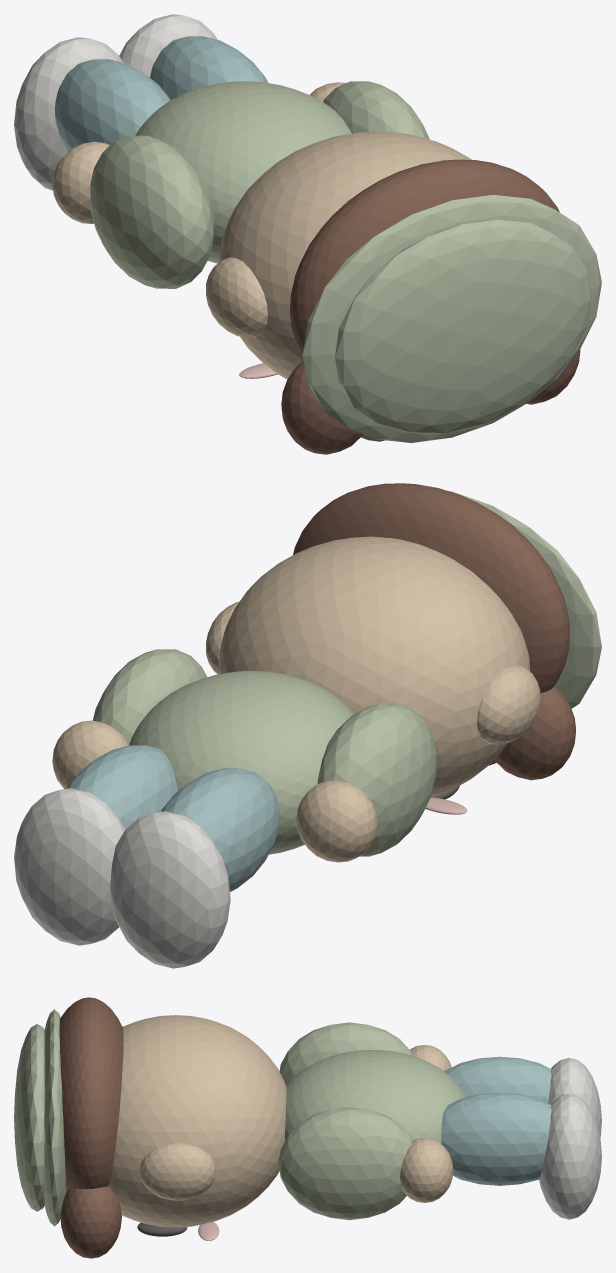
Rendered from finance.glb.
3 renders of one model, top to bottom at view 1: azimuth 30°, elevation 25°; view 2: azimuth 150°, elevation 25°; view 3: azimuth 270°, elevation 25°, orthographic. The views are drawn at different scales.
Parts seen in each view (by area): view 1: beret_crown, head_base, body_shirt, sleeve_L, beret_brim, hair_cap, leg_L, shoe_L, leg_R, ear_L, sleeve_R, fringe_0 (+3 smaller); view 2: head_base, body_shirt, hair_cap, shoe_L, shoe_R, sleeve_L, leg_L, leg_R, hand_L, sleeve_R, beret_brim, fringe_0 (+3 smaller); view 3: head_base, sleeve_R, hair_cap, body_shirt, leg_R, shoe_R, beret_crown, beret_brim, fringe_4, ear_R, sleeve_L, leg_L (+4 smaller).
Part boxes in pixels (x1,y1,x2,y2): beret_crown: (335, 219, 591, 434); head_base: (218, 131, 471, 379); body_shirt: (135, 81, 351, 263); sleeve_L: (90, 135, 213, 288); beret_brim: (302, 195, 601, 442); hair_cap: (290, 159, 559, 357); leg_L: (54, 59, 170, 151); shoe_L: (14, 37, 123, 190); leg_R: (150, 36, 268, 99); ear_L: (206, 257, 267, 337); sleeve_R: (323, 81, 429, 139); fringe_0: (281, 360, 362, 454); head_base: (218, 536, 530, 797); body_shirt: (129, 670, 353, 854); hair_cap: (293, 483, 569, 692); shoe_L: (110, 811, 230, 968); shoe_R: (14, 788, 125, 945); sleeve_L: (317, 703, 436, 856); leg_L: (161, 768, 279, 891); leg_R: (67, 745, 177, 829); hand_L: (296, 780, 377, 862); sleeve_R: (92, 649, 206, 744); beret_brim: (448, 491, 601, 708); fringe_0: (494, 686, 575, 780); head_base: (109, 1015, 286, 1227); sleeve_R: (278, 1107, 413, 1220); hair_cap: (59, 997, 123, 1192); body_shirt: (285, 1049, 465, 1143); leg_R: (441, 1092, 551, 1185); shoe_R: (539, 1093, 601, 1219); beret_crown: (14, 1024, 44, 1211); beret_brim: (44, 1009, 66, 1226); fringe_4: (60, 1186, 121, 1258); ear_R: (139, 1143, 216, 1200); sleeve_L: (279, 1022, 412, 1084); leg_L: (444, 1056, 551, 1102).
Size of the model in its own units: 1.48 by 1.19 by 3.05.
